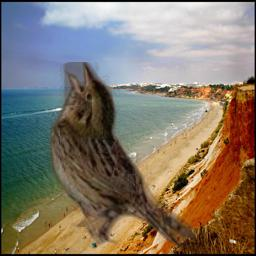Sparrow: (49, 62, 196, 248)
